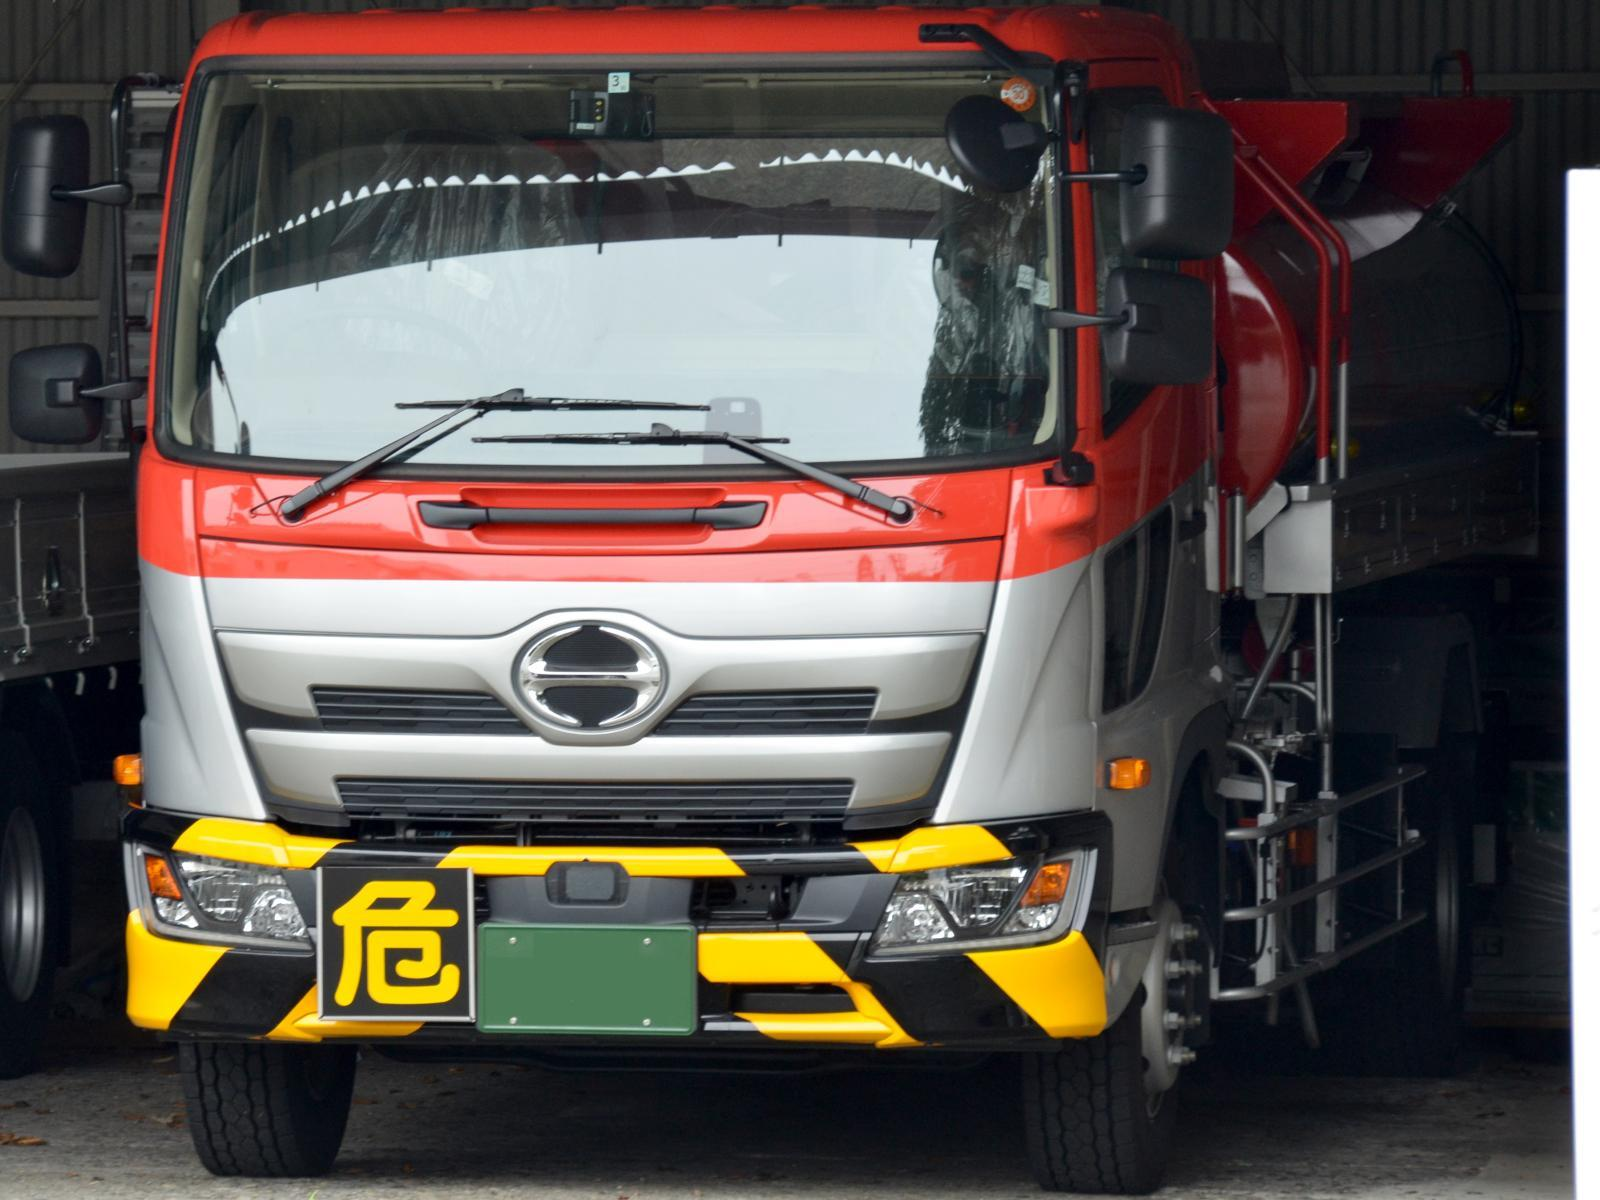truck: (102, 0, 1508, 1192)
